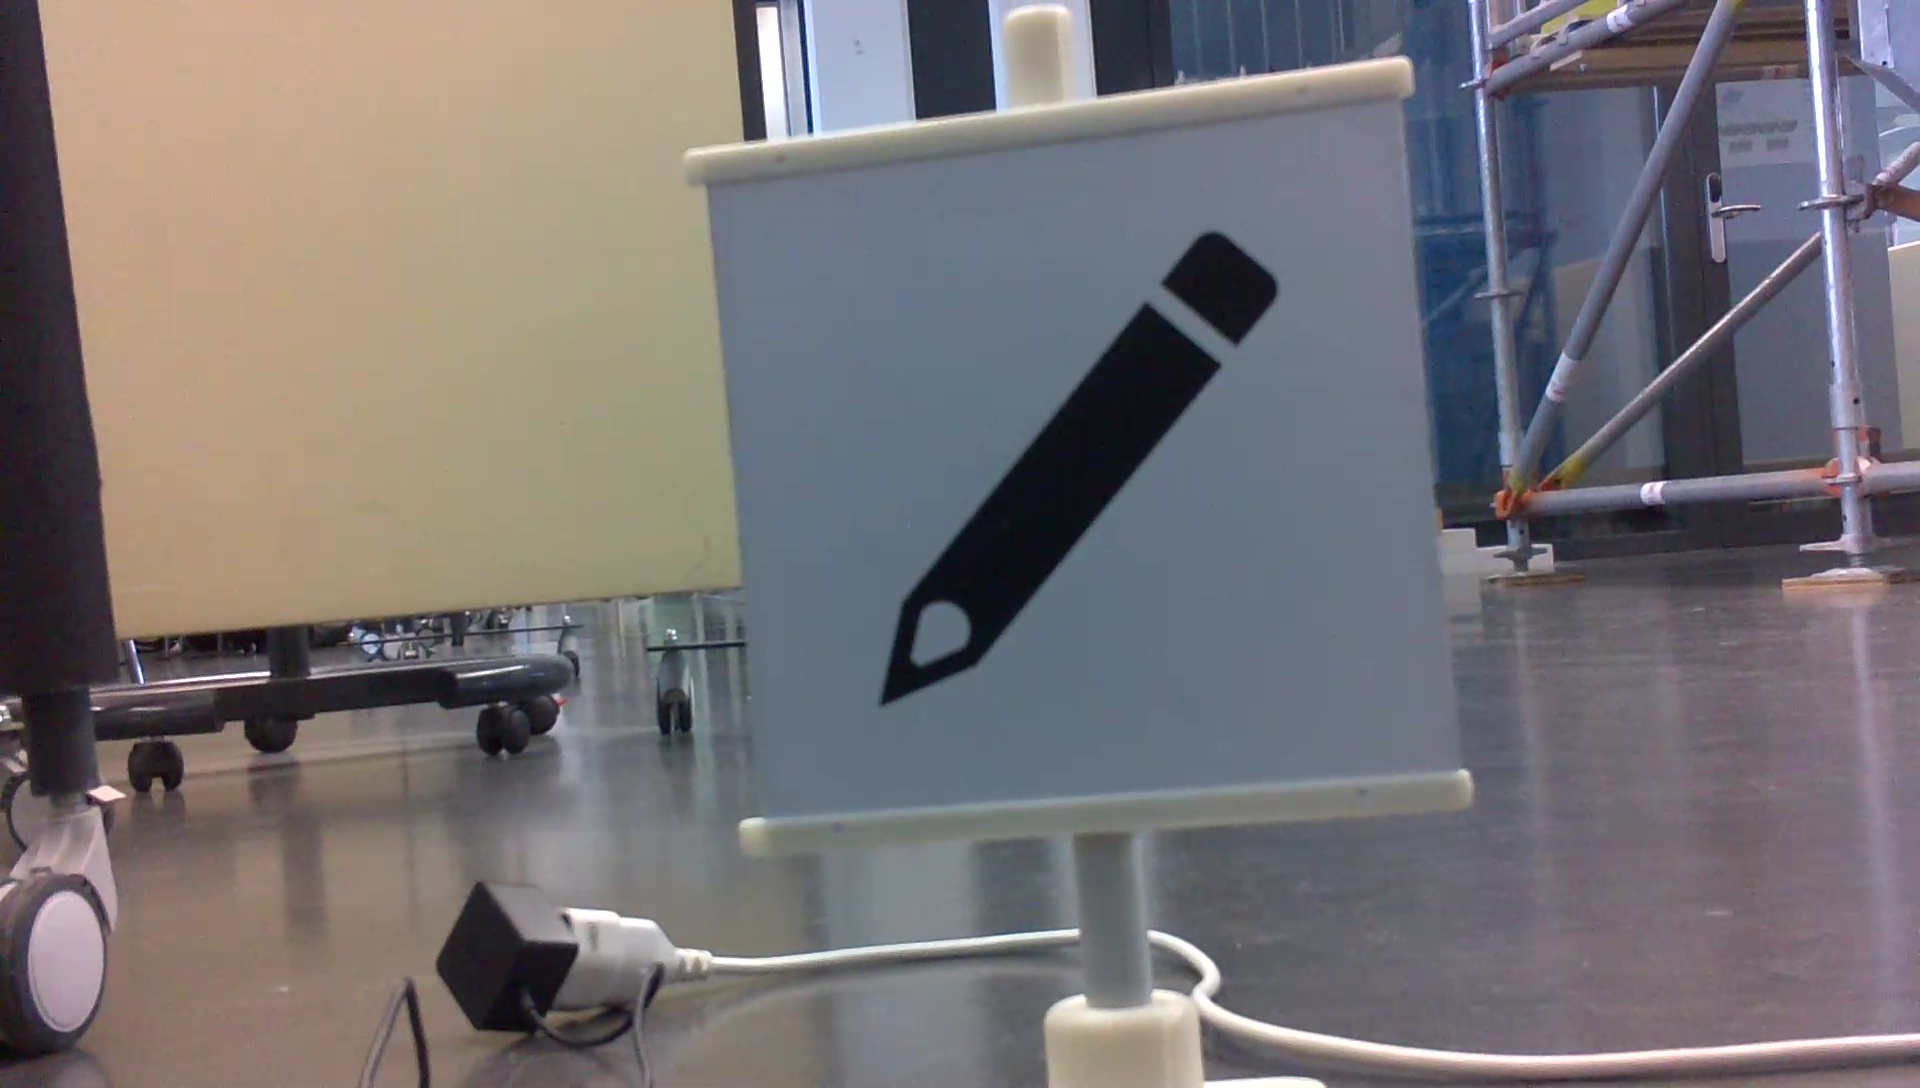pencil: (858, 214, 1304, 719)
